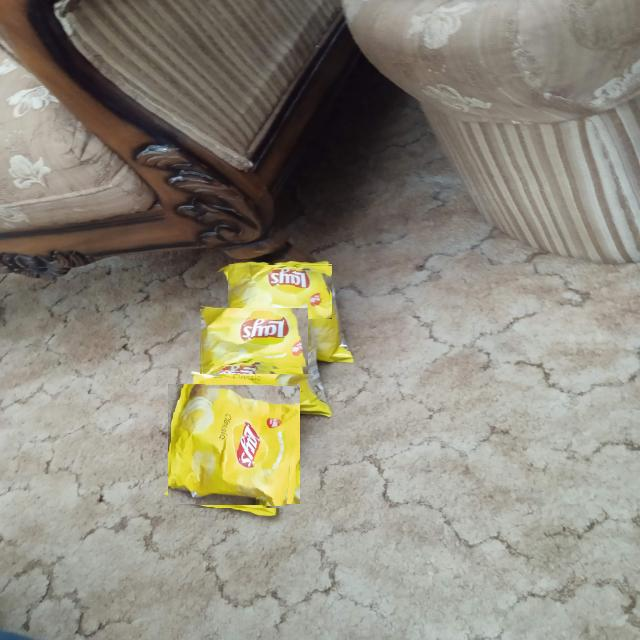Plastic: (171, 381, 297, 508), (199, 308, 308, 374), (228, 263, 332, 319)
